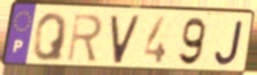4: (142, 15, 168, 67)
9: (176, 17, 208, 67)
J: (213, 19, 245, 67)
Q: (31, 11, 70, 63)
R: (65, 13, 105, 64)
V: (109, 14, 143, 66)
